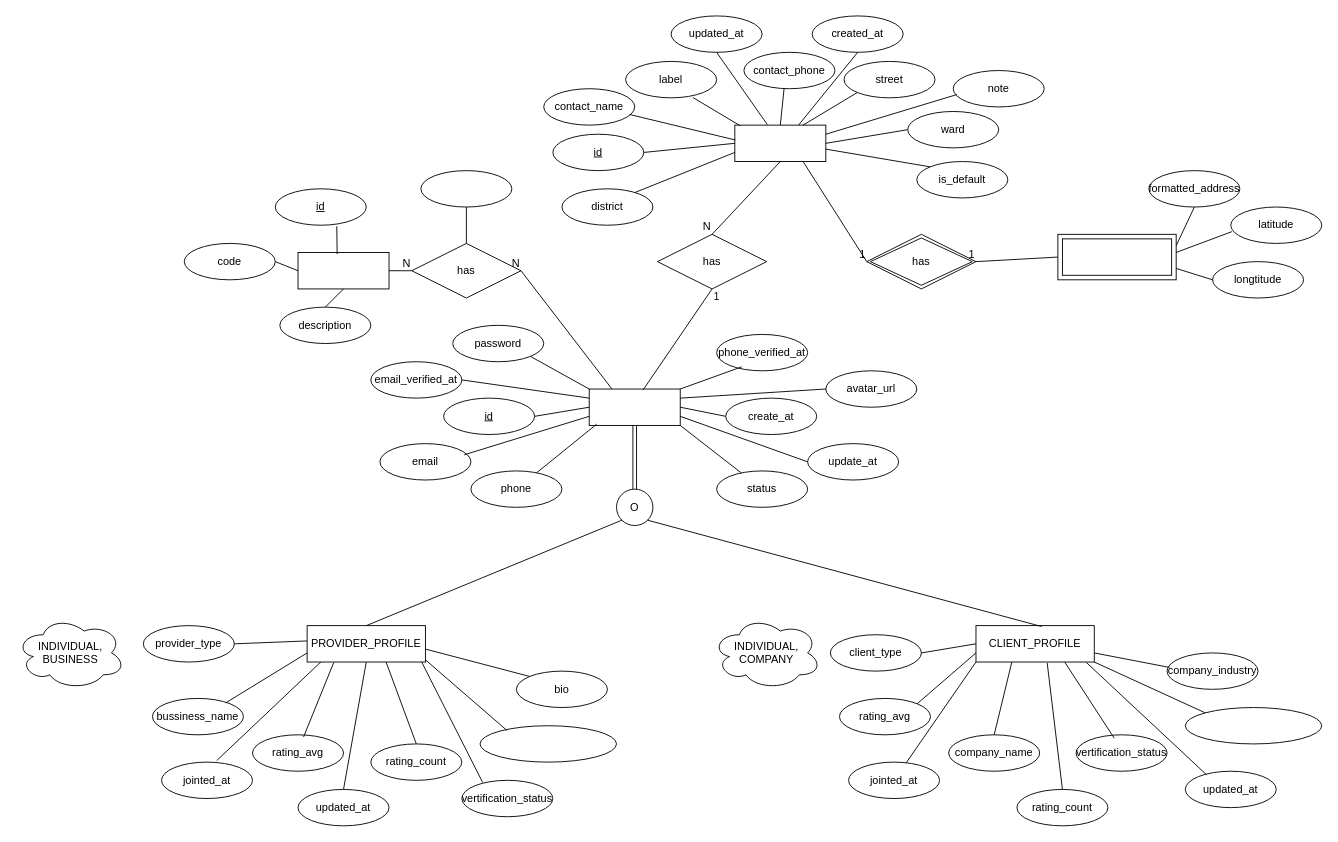
Some shapes in this 1338 by 842 pixel diagram are drawn without their labels. The centre of each missing label's shape, as x and y in pixels:
"ADDRESS" belongs at (780,143).
"completed_order_count" belongs at (548,743).
"GOOGLE_MAP_API" belongs at (1116,256).
"granted_at" belongs at (466,188).
"ROLE" belongs at (343,270).
"total_jobs_posted" belongs at (1253,725).
"USER" belongs at (634,406).
